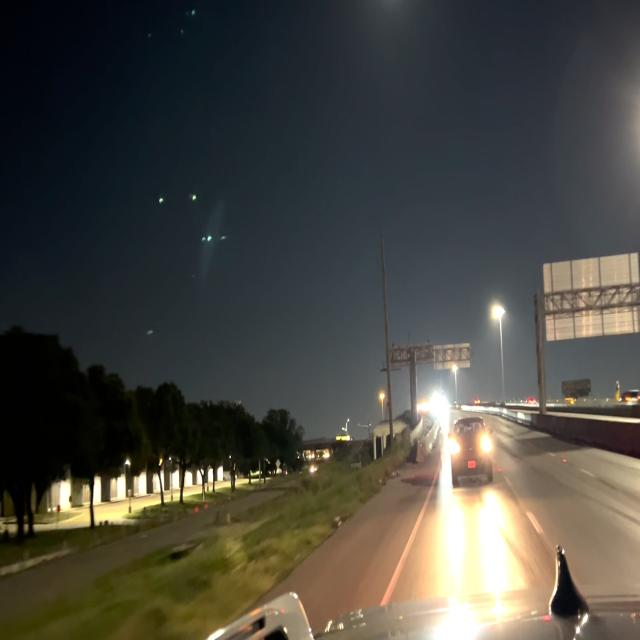back-of-sign: (540, 250, 640, 344), (432, 338, 473, 374)
